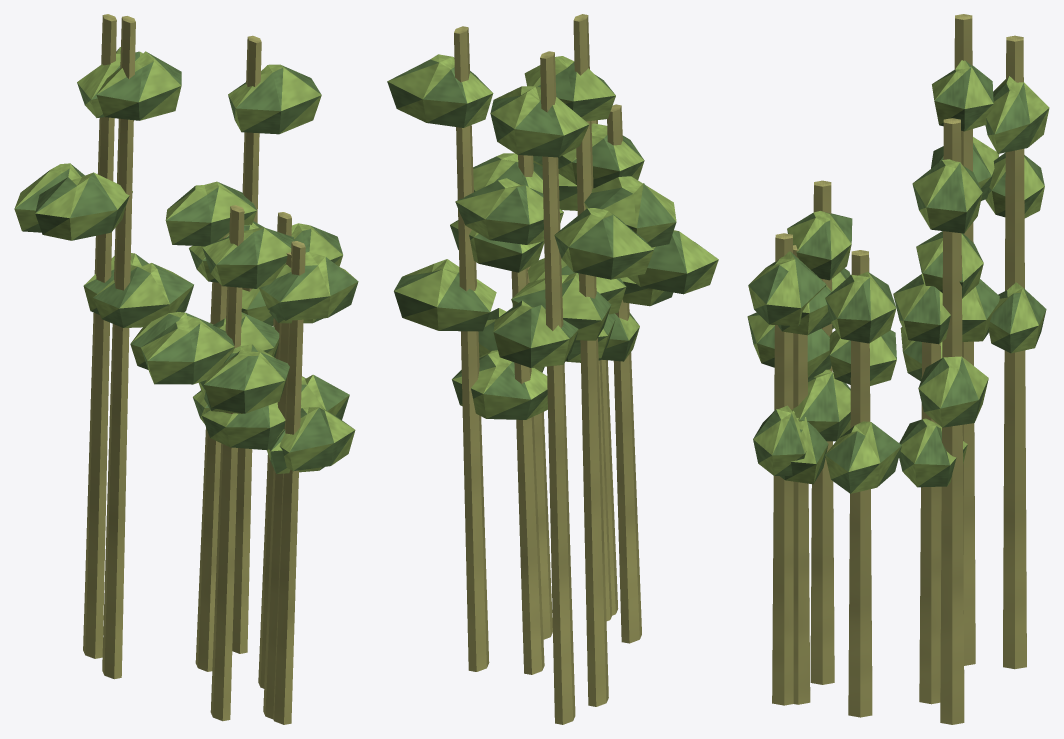
Rendered from bamboo_clump_01.fbx.
3 renders of one model, left to right at view 1: azimuth 30°, elevation 25°; view 2: azimuth 150°, elevation 25°; view 3: azimuth 270°, elevation 25°, orthographic. The views are drawn at different scales.
Parts seen in each view (by area): view 1: bamboo_clump_01; view 2: bamboo_clump_01; view 3: bamboo_clump_01.
Part boxes in pixels (x1,y1,x2,y2): bamboo_clump_01: [14, 14, 358, 724]; bamboo_clump_01: [387, 14, 718, 724]; bamboo_clump_01: [747, 14, 1049, 724].
Bounding box in the file's own units: 191 × 430 × 180.
1 material, 1 textured.
